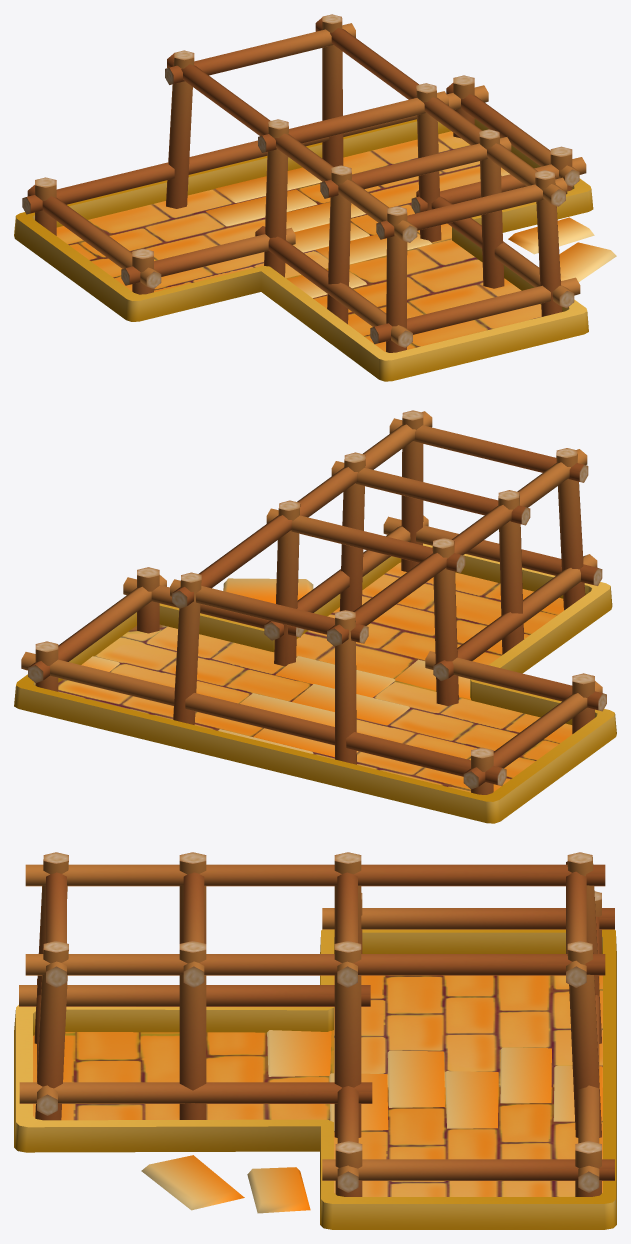
The model's file is ArabianHouse_M_09.fbx.
3 renders of one model, top to bottom at view 1: azimuth 30°, elevation 25°; view 2: azimuth 150°, elevation 25°; view 3: azimuth 270°, elevation 25°, orthographic. The views are drawn at different scales.
Visible parts, largest first — view 1: ArabianHouse_M_09; view 2: ArabianHouse_M_09; view 3: ArabianHouse_M_09.
Part boxes in pixels (x1,y1,x2,y2): ArabianHouse_M_09: [14, 14, 616, 381]; ArabianHouse_M_09: [14, 410, 616, 823]; ArabianHouse_M_09: [14, 852, 616, 1229].
Bounding box in the file's own units: 6.77 × 2.15 × 6.16.
